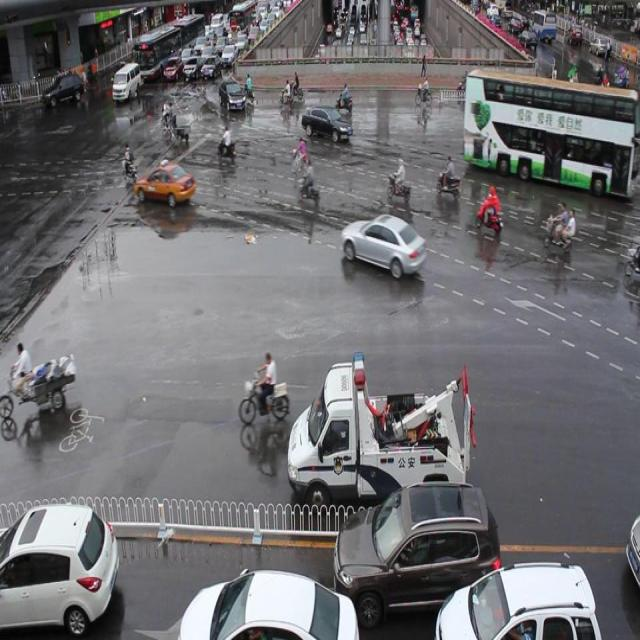bus: (287, 352, 473, 518)
car: (331, 483, 500, 625), (0, 501, 119, 640), (179, 567, 359, 640), (434, 562, 598, 640), (339, 214, 426, 277), (135, 162, 195, 206), (301, 104, 352, 144), (624, 513, 640, 586), (218, 78, 247, 113)
van: (463, 68, 640, 199)
